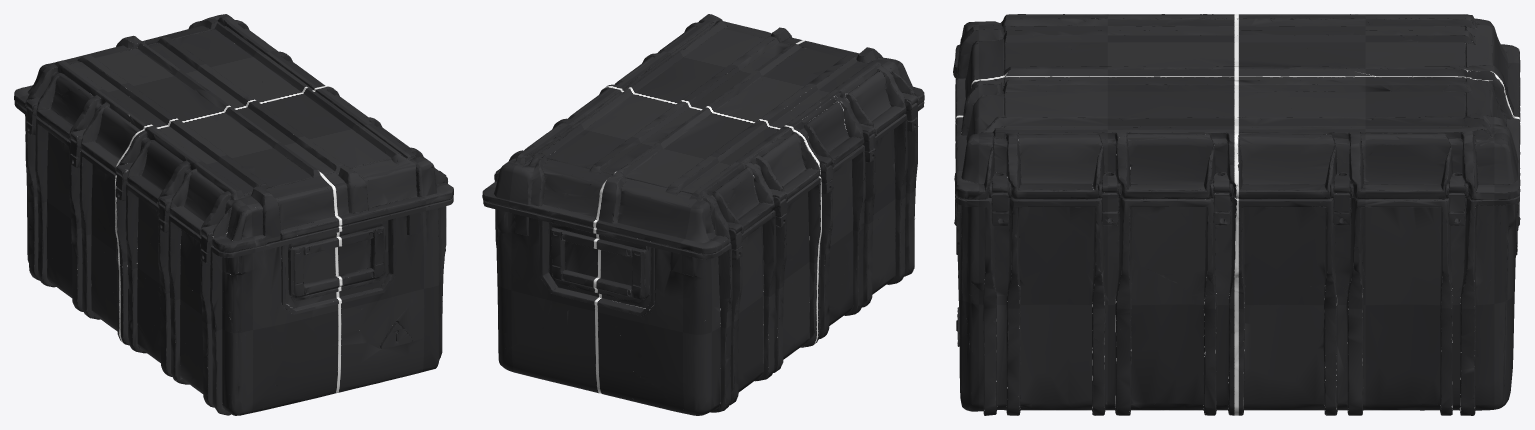
Rendered from dark.glb.
The picture shows the model from 3 angles, left to right: view 1: azimuth 30°, elevation 25°; view 2: azimuth 150°, elevation 25°; view 3: azimuth 270°, elevation 25°; orthographic projection. The views are drawn at different scales.
Parts seen in each view (by area): view 1: dark_mesh; view 2: dark_mesh; view 3: dark_mesh.
Boxes of the visible parts, box(x1,y1,x2,y2) form: dark_mesh: box(14, 14, 453, 415); dark_mesh: box(482, 14, 924, 415); dark_mesh: box(953, 14, 1520, 415).
Size of the model in its own units: 0.7067 by 0.6075 by 1.1.
1 material, 1 textured.
